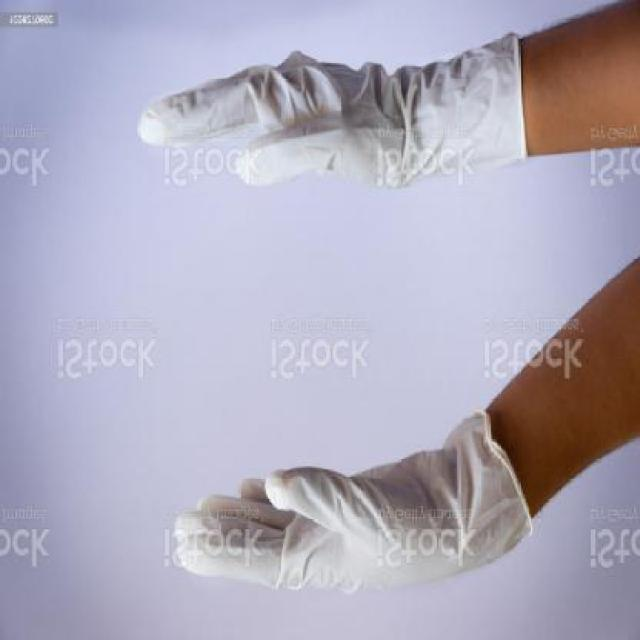gloved_hand: (166, 403, 539, 609), (137, 26, 532, 192)
